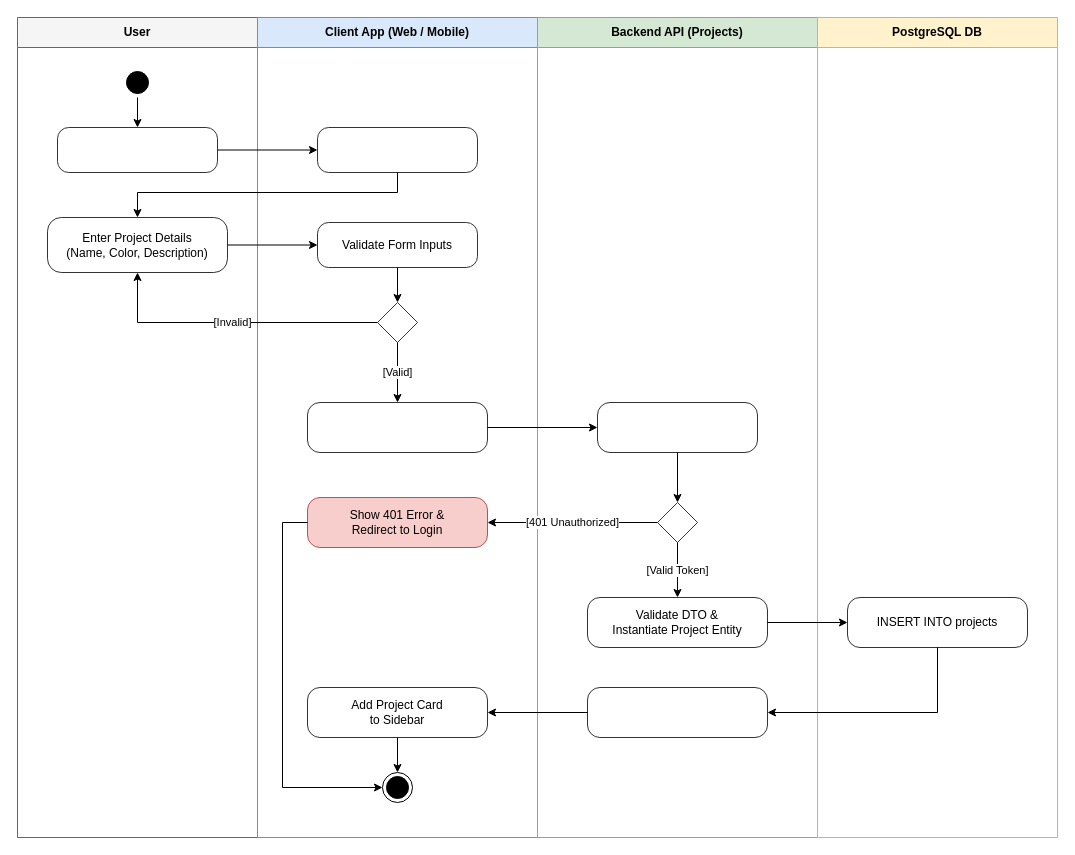
This 1075x855 diagram has some shape labels left out. Here are the shapes that lost their labels. From the top down, the box of each, then its label:
(56, 126, 218, 172): Click "New Project"
(316, 126, 478, 172): Display Create Project Form
(306, 402, 488, 452): Send POST /api/projects (with JWT)
(596, 402, 758, 452): Verify JWT Token
(586, 686, 768, 738): Return 201 Created (Project DTO)
